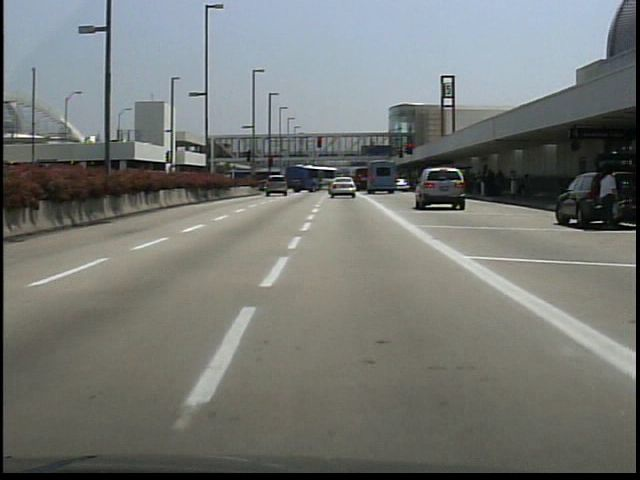person: (595, 168, 621, 230)
